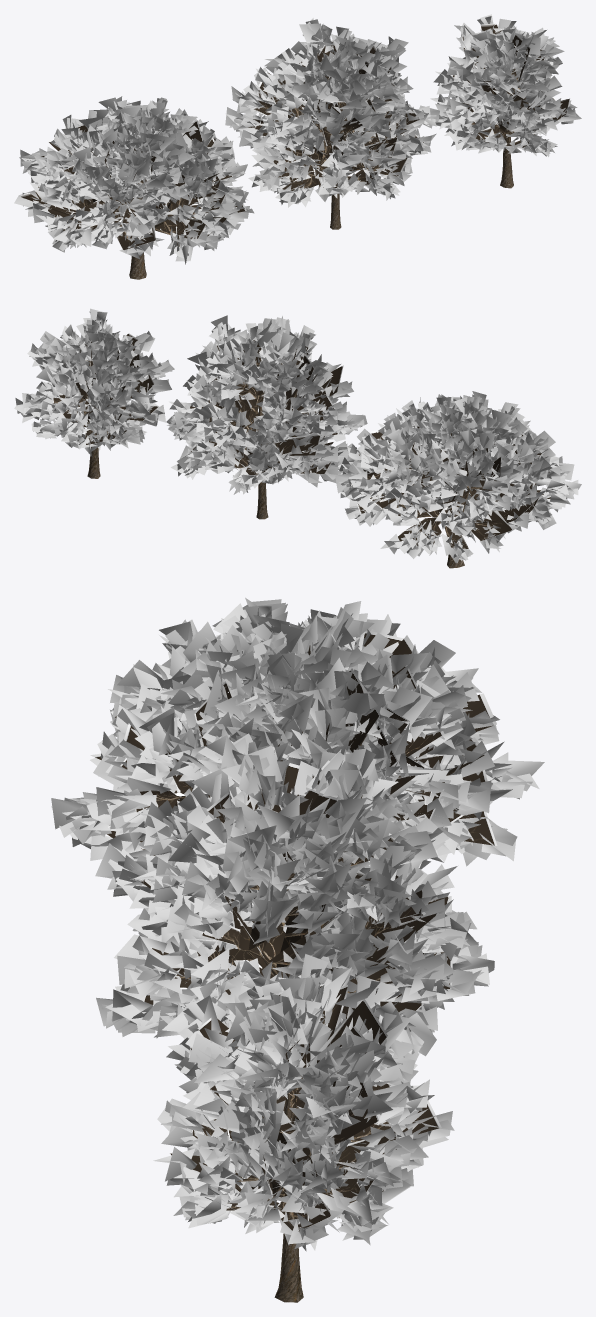
Rendered from Trees.fbx.
3 renders of one model, top to bottom at view 1: azimuth 30°, elevation 25°; view 2: azimuth 150°, elevation 25°; view 3: azimuth 270°, elevation 25°, orthographic. The views are drawn at different scales.
Visible parts, largest first — view 1: Leaf_6, Bark_9; view 2: Leaf_6, Bark_9; view 3: Leaf_6, Bark_9.
Part boxes in pixels (bbox=[...]): Leaf_6: bbox=[14, 14, 581, 264]; Bark_9: bbox=[117, 78, 523, 279]; Leaf_6: bbox=[14, 308, 581, 563]; Bark_9: bbox=[83, 358, 483, 568]; Leaf_6: bbox=[51, 597, 544, 1251]; Bark_9: bbox=[178, 760, 391, 1302].
Bounding box in the file's own units: 21582 × 7487 × 8742.
